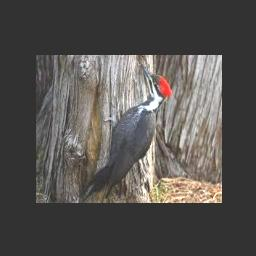Woodpecker: (83, 62, 173, 201)
